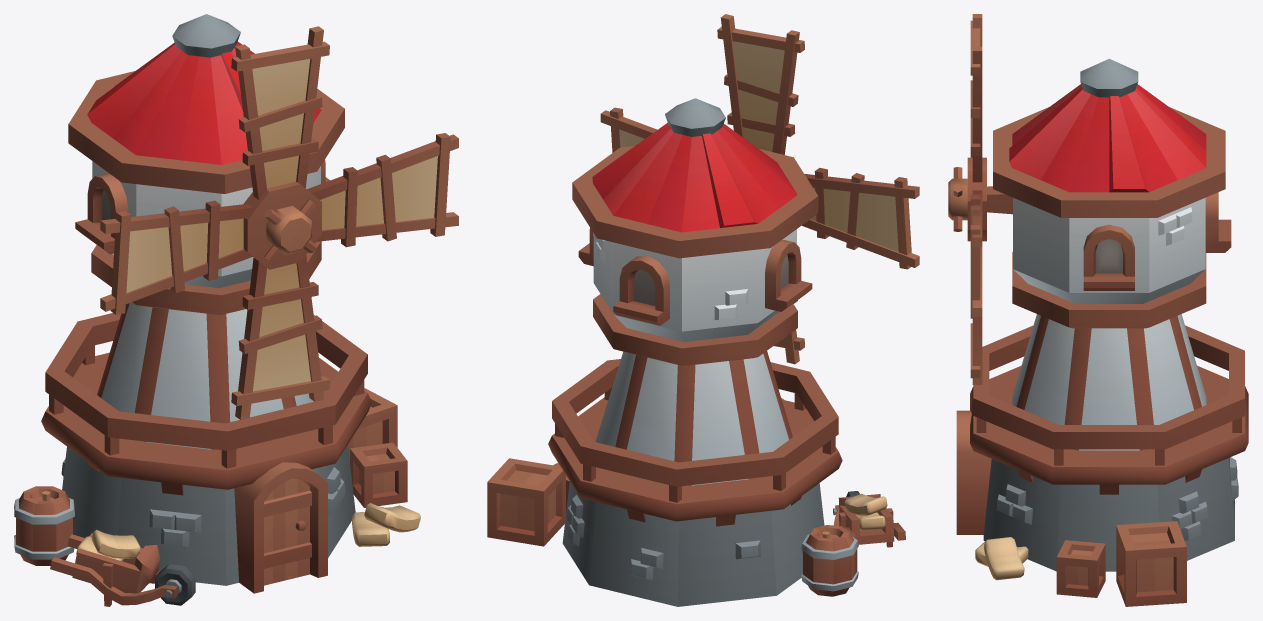
Rendered from kk_windmill_v1.glb.
The picture shows the model from 3 angles, left to right: view 1: azimuth 30°, elevation 25°; view 2: azimuth 150°, elevation 25°; view 3: azimuth 270°, elevation 25°; orthographic projection. The views are drawn at different scales.
Visible parts, largest first — view 1: building_windmill_red; view 2: building_windmill_red; view 3: building_windmill_red.
Part boxes in pixels (x1,y1,x2,y2): building_windmill_red: [14, 14, 458, 606]; building_windmill_red: [487, 14, 919, 606]; building_windmill_red: [948, 14, 1248, 606].
Bounding box in the file's own units: 1.13 × 1.46 × 0.8165.
Materials: 1 (1 with a texture image).
